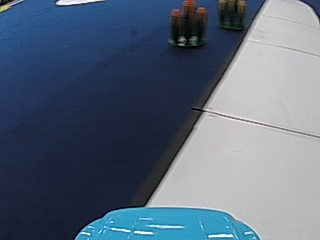corn: (168, 1, 208, 49), (218, 0, 246, 30)
